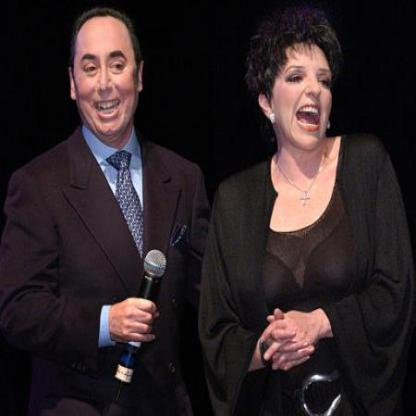face: (271, 23, 341, 151), (74, 10, 142, 137)
